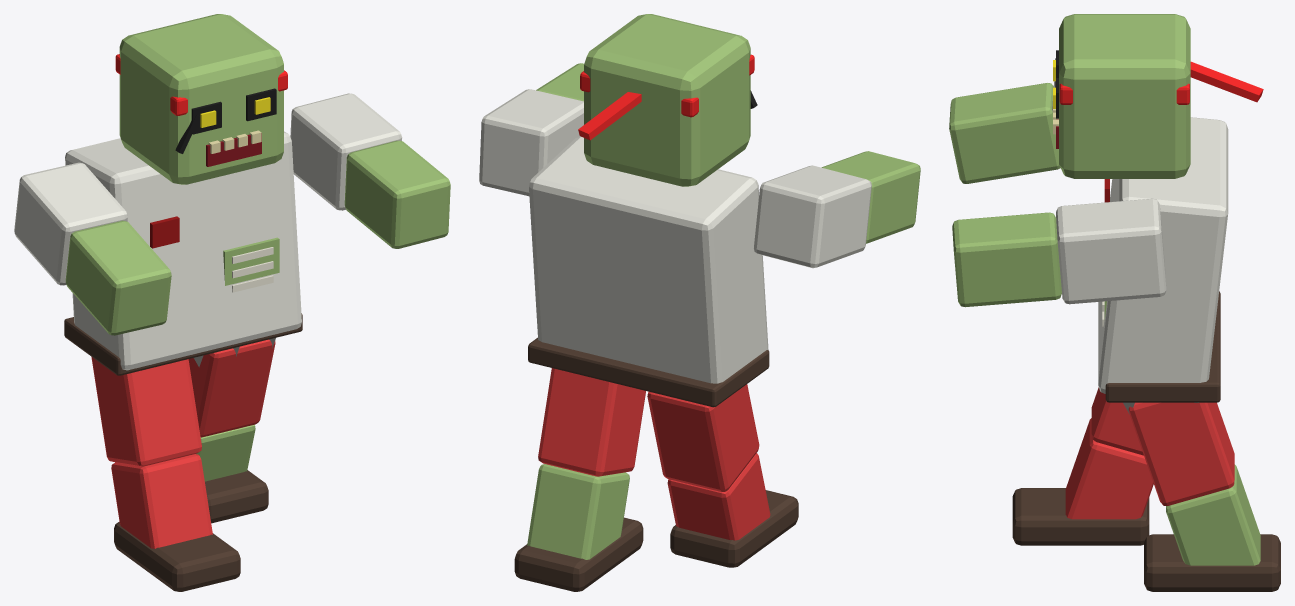
The model's file is zombi_corredor.obj.
The picture shows the model from 3 angles, left to right: view 1: azimuth 30°, elevation 25°; view 2: azimuth 150°, elevation 25°; view 3: azimuth 270°, elevation 25°; orthographic projection. The views are drawn at different scales.
Parts seen in each view (by area): view 1: Torso, Head, LeftLeg, LeftArm, RightArm, RightLeg; view 2: Torso, Head, RightLeg, LeftLeg, LeftArm, RightArm; view 3: Torso, Head, RightLeg, RightArm, LeftLeg, LeftArm.
Boxes of the visible parts, x1,y1,x2,y2 form: Torso: (64,131,302,375); Head: (115,14,287,184); LeftLeg: (91,357,240,591); LeftArm: (14,162,171,335); RightArm: (290,93,450,248); RightLeg: (188,339,275,523); Torso: (528,136,769,407); Head: (578,14,757,186); RightLeg: (514,368,645,591); LeftLeg: (647,384,798,567); LeftArm: (754,151,920,268); RightArm: (479,63,583,196); Torso: (1098,117,1228,414); Head: (1053,14,1263,178); RightLeg: (1128,402,1280,591); RightArm: (952,198,1166,307); LeftLeg: (1012,387,1153,545); LeftArm: (949,81,1060,183).
Size of the model in its own units: 3.95 by 5.48 by 3.18.
1 material, 1 textured.
